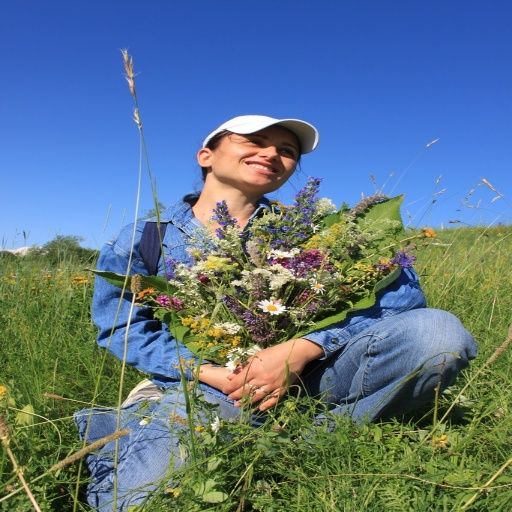hand: (187, 331, 319, 424)
